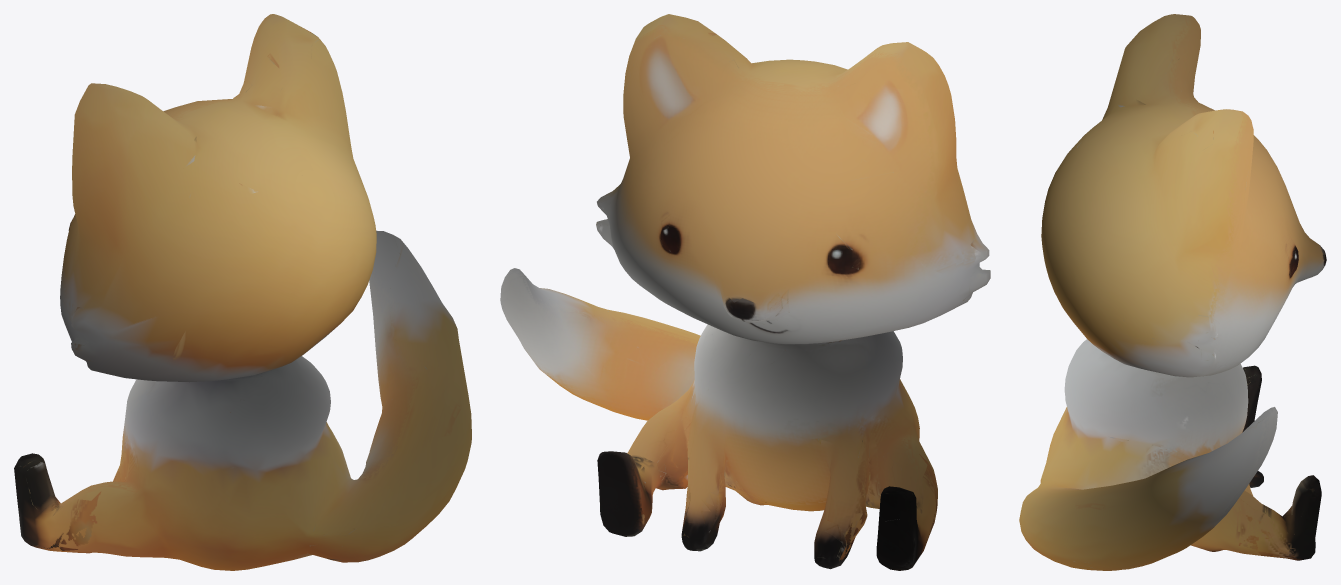
The model's file is fox_doll_refined.glb.
The picture shows the model from 3 angles, left to right: view 1: azimuth 30°, elevation 25°; view 2: azimuth 150°, elevation 25°; view 3: azimuth 270°, elevation 25°; orthographic projection. The views are drawn at different scales.
Bounding box in the file's own units: 1.43 × 1.6 × 0.9776.
1 material, 1 textured.
